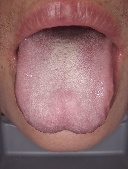tongue: (12, 40, 115, 136)
